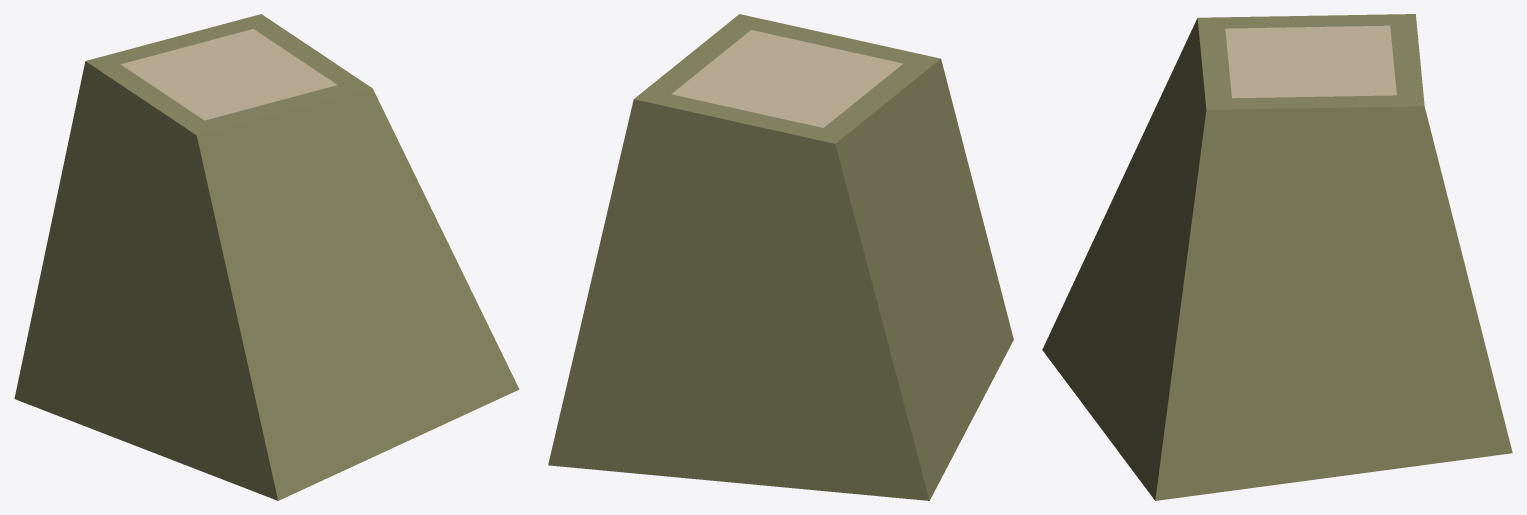
File: Dead_Stump_01.fbx
The picture shows the model from 3 angles, left to right: view 1: azimuth 30°, elevation 25°; view 2: azimuth 150°, elevation 25°; view 3: azimuth 270°, elevation 25°; orthographic projection. The views are drawn at different scales.
Visible parts, largest first — view 1: Dead_Stump_01; view 2: Dead_Stump_01; view 3: Dead_Stump_01.
Boxes of the visible parts, <box> form: Dead_Stump_01: <box>14,14,519,500</box>; Dead_Stump_01: <box>548,14,1013,500</box>; Dead_Stump_01: <box>1042,14,1512,500</box>.
Bounding box in the file's own units: 140 × 108 × 140.
